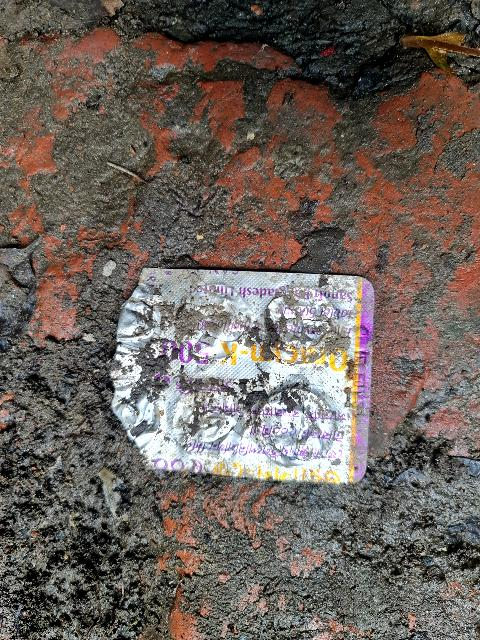medicine: (105, 249, 387, 495)
